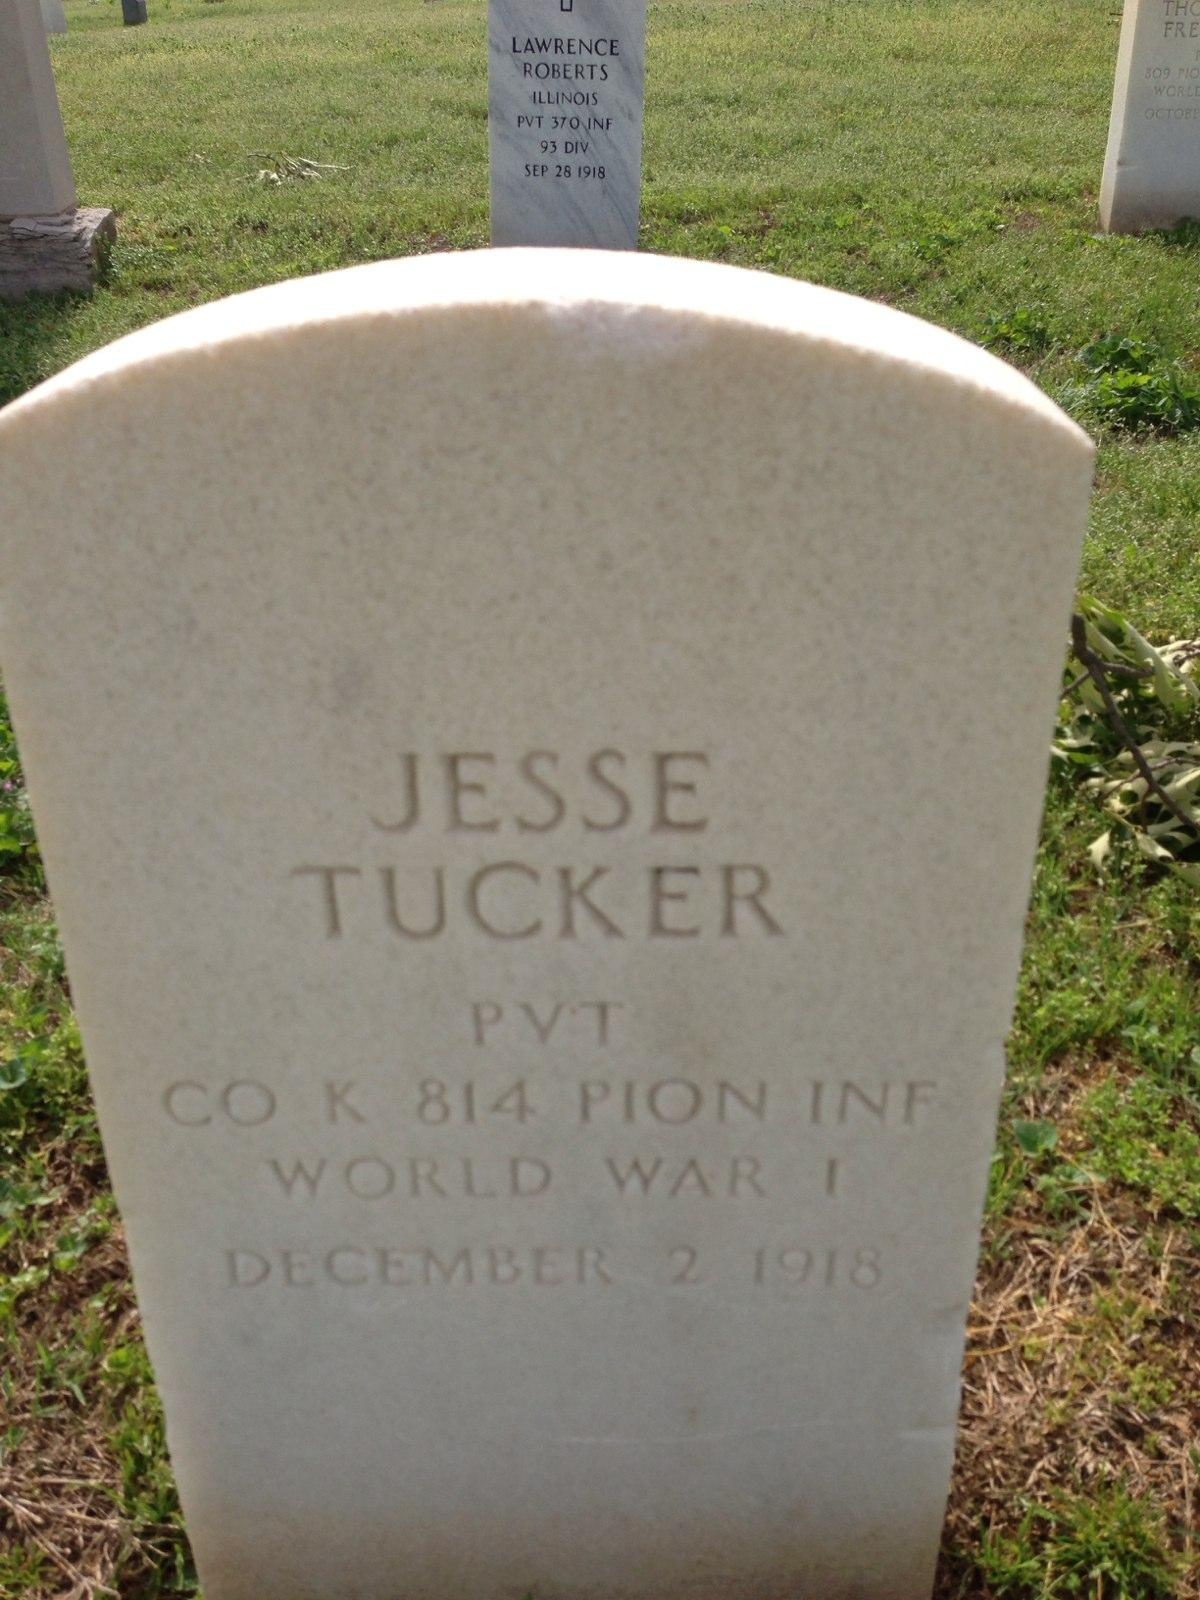military: (0, 242, 1097, 1599)
